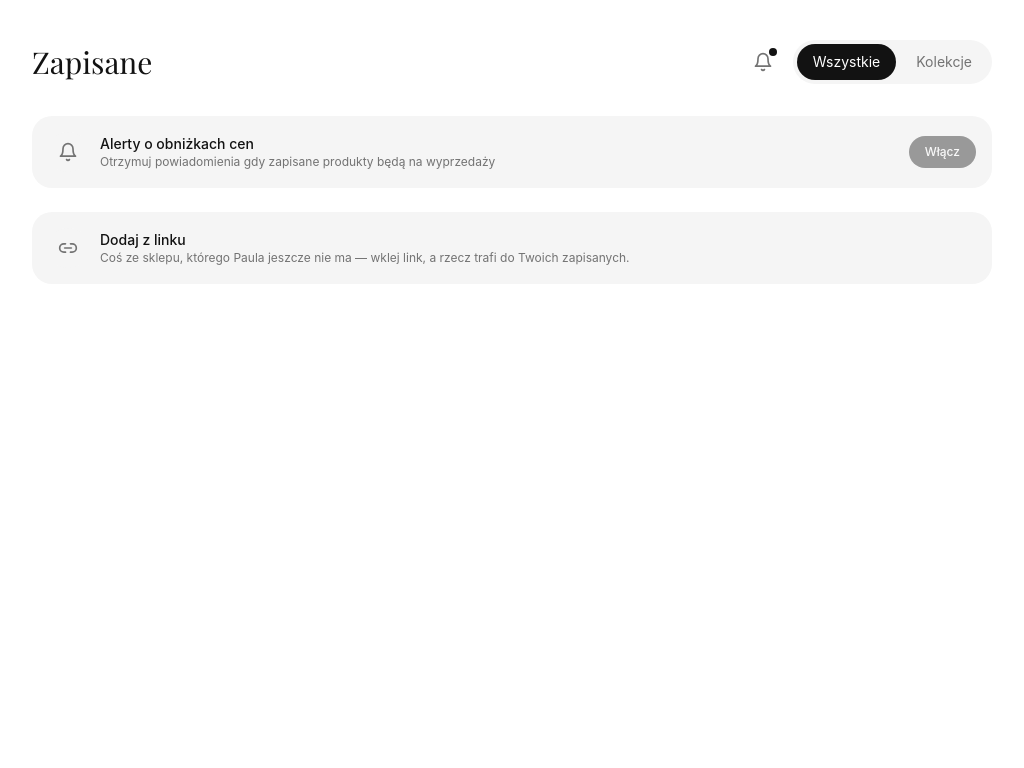
kolekcje › tworzy kolekcję i pokazuje ją z licznikiem
Click the button "Kolekcje" at (944, 62), box [900,44,988,80]
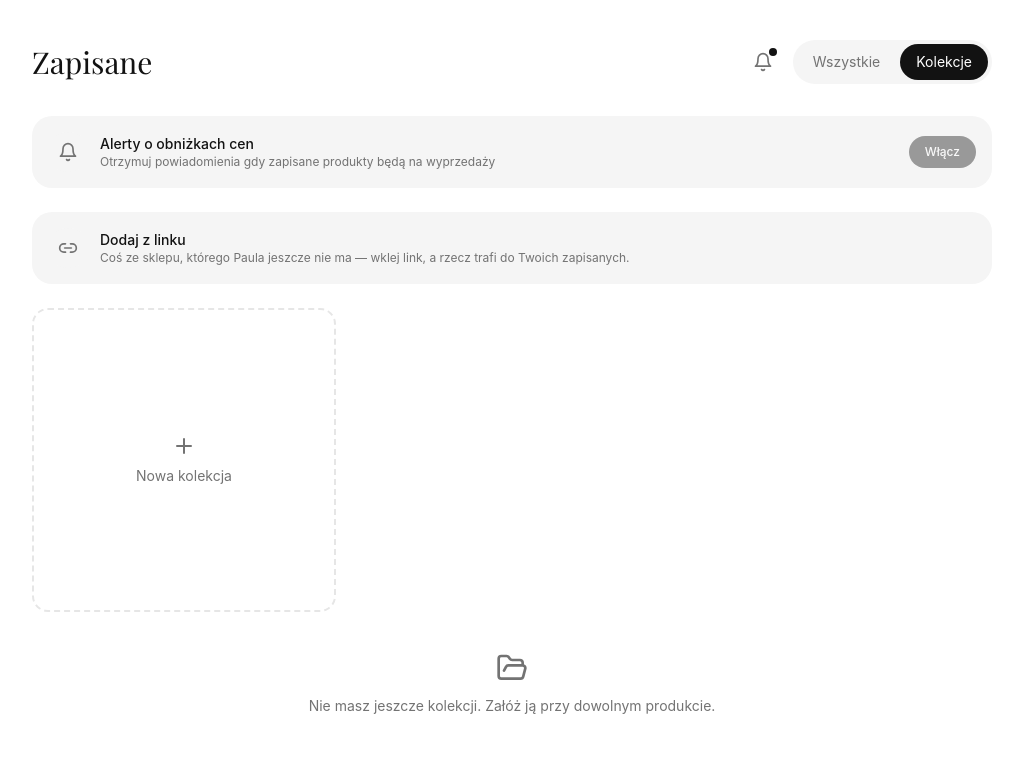
Click the button "Nowa kolekcja" at (184, 460), box [32,308,336,612]
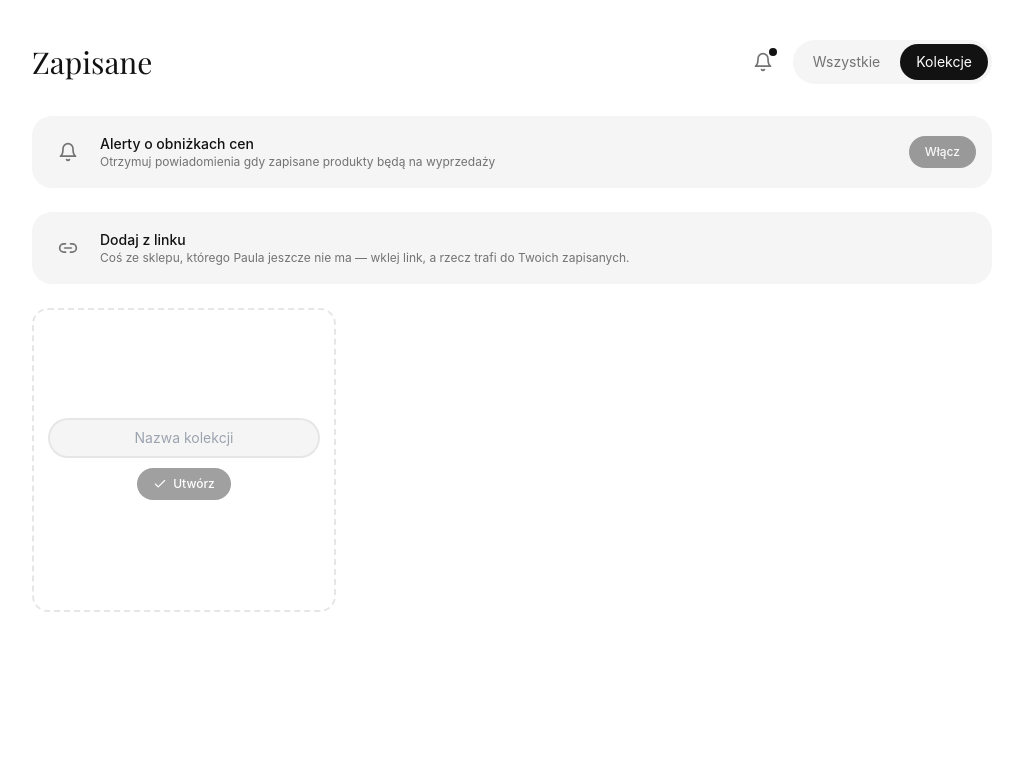
Type "Na wesele" into the field with placeholder "Nazwa kolekcji" at (184, 438), box [50,420,318,456]
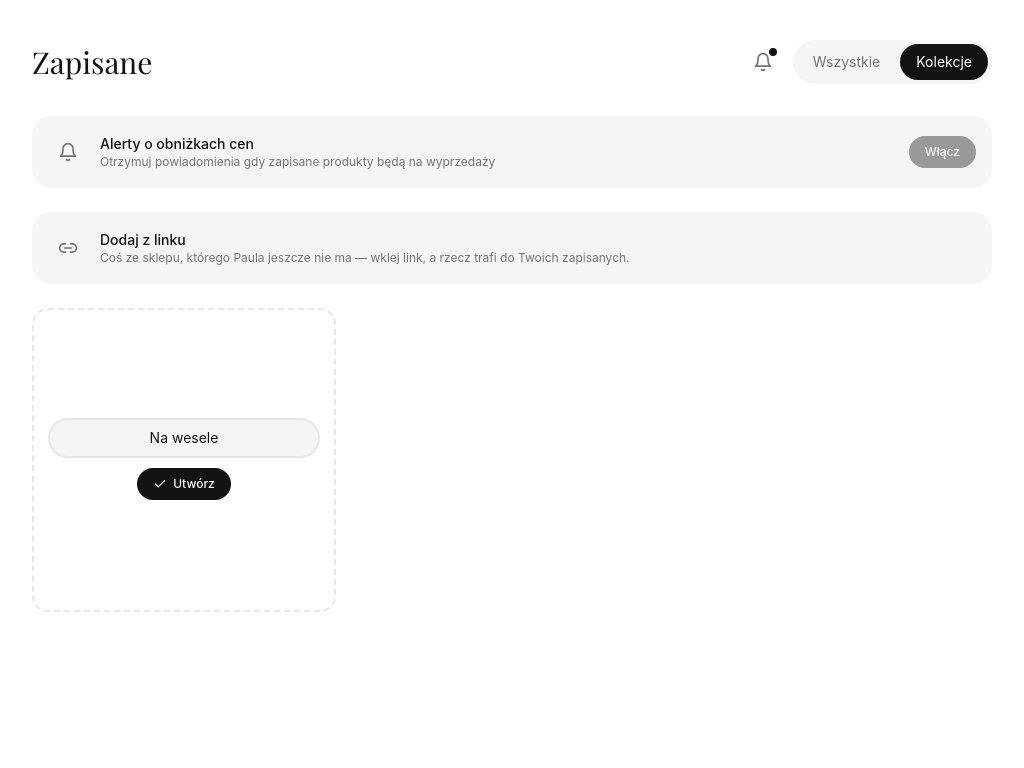
Click the button "Utwórz" at (184, 484), box [137,468,231,500]
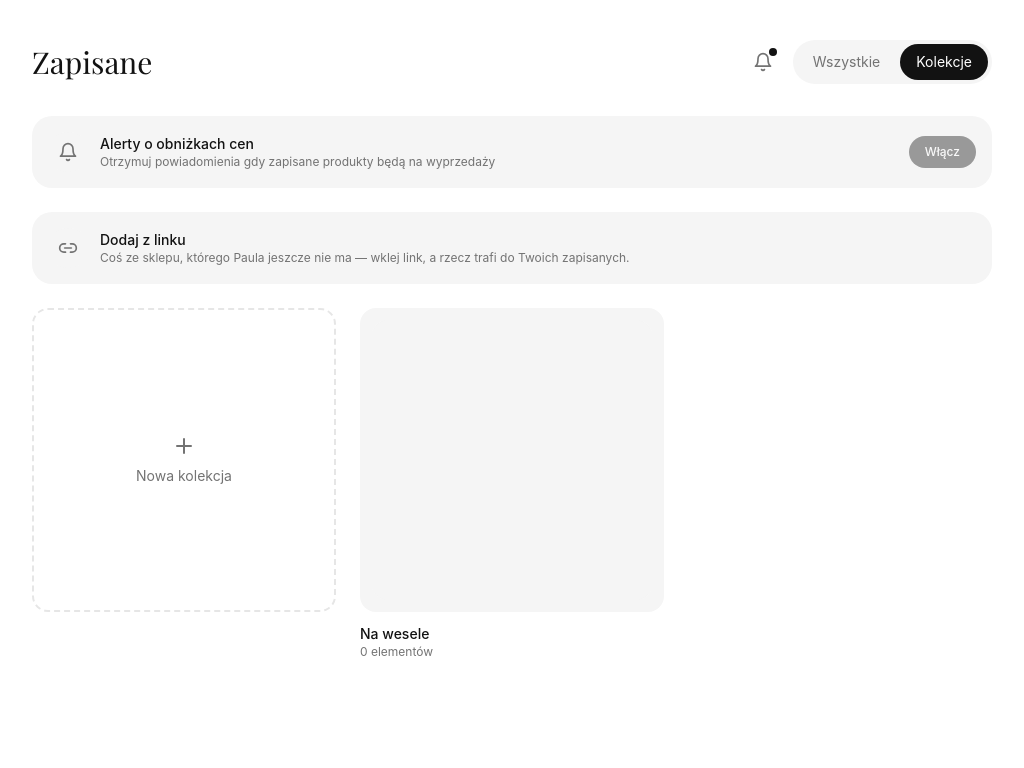
Expected: the text "Nie masz jeszcze kolekcji" is not shown
Expected: the text "Na wesele" is shown, [360,625,429,642]
Expected: the text "0 elementów" is shown, [360,644,433,659]
